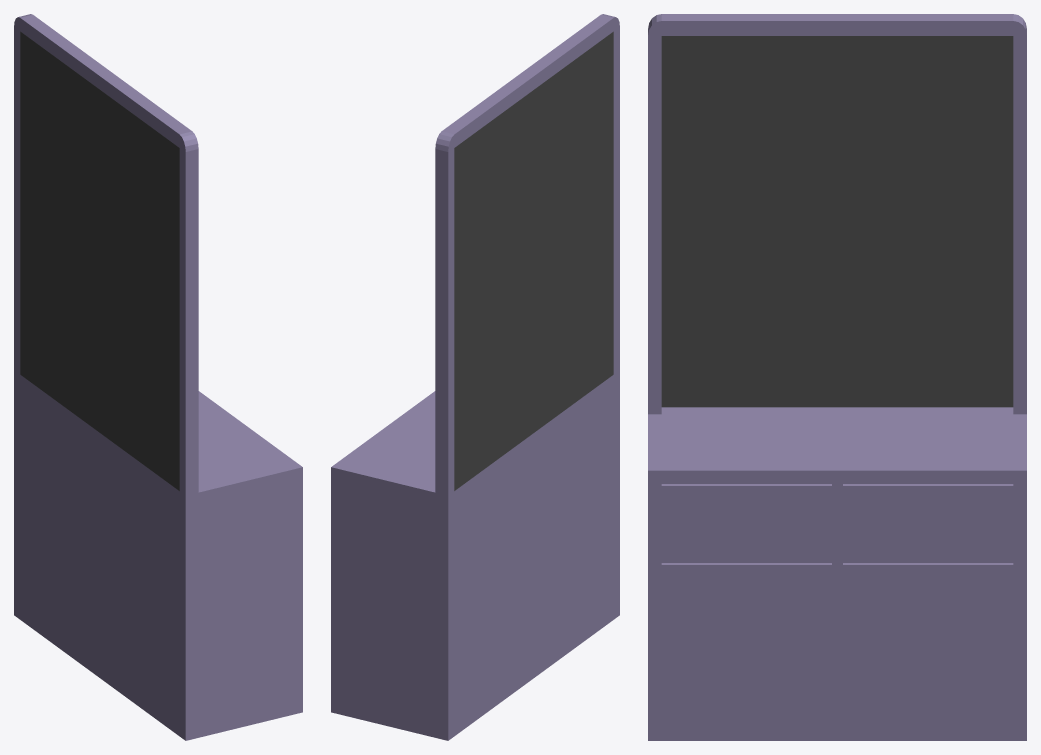
File: drassing table.glb
3 renders of one model, left to right at view 1: azimuth 30°, elevation 25°; view 2: azimuth 150°, elevation 25°; view 3: azimuth 270°, elevation 25°, orthographic. The views are drawn at different scales.
Parts seen in each view (by area): view 1: dreesing_table; view 2: dreesing_table; view 3: dreesing_table.
Boxes of the visible parts, x1,y1,x2,y2 form: dreesing_table: (14, 14, 302, 740); dreesing_table: (331, 14, 619, 740); dreesing_table: (648, 14, 1026, 740).
Bounding box in the file's own units: 0.3469 × 1.65 × 0.8549.
